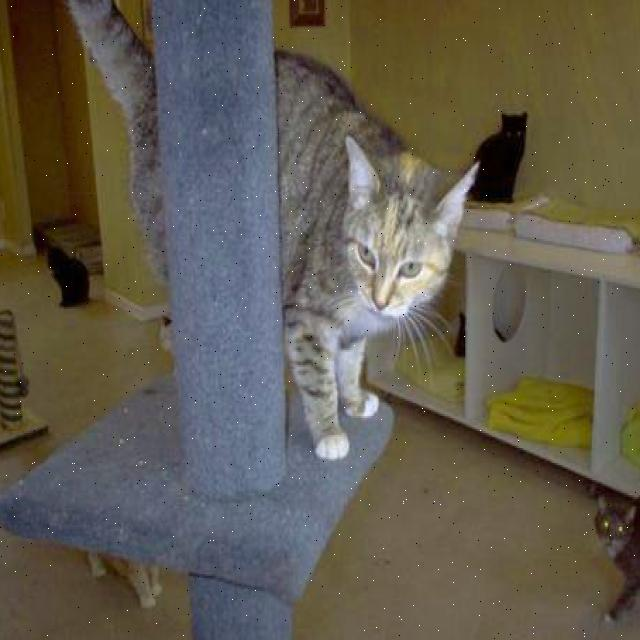Cat: (329, 157, 479, 332), (583, 494, 638, 563), (492, 105, 538, 162)
